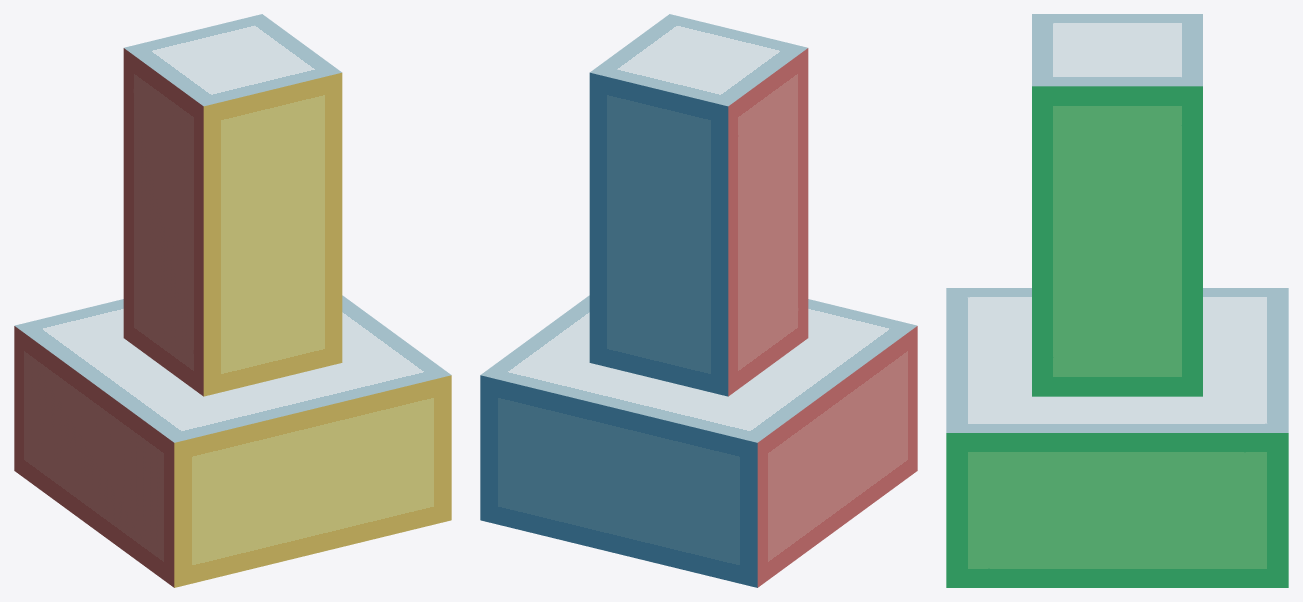
The picture shows the model from 3 angles, left to right: view 1: azimuth 30°, elevation 25°; view 2: azimuth 150°, elevation 25°; view 3: azimuth 270°, elevation 25°; orthographic projection. The views are drawn at different scales.
Parts seen in each view (by area): view 1: cube (×2); view 2: cube (×2); view 3: cube (×2).
Boxes of the visible parts, x1=… form: cube (×2): x1=14, y1=14, x2=451, y2=587; cube (×2): x1=480, y1=14, x2=917, y2=587; cube (×2): x1=946, y1=14, x2=1288, y2=587.
Bounding box in the file's own units: 1 × 1.5 × 1.
Materials: 1 (1 with a texture image).
